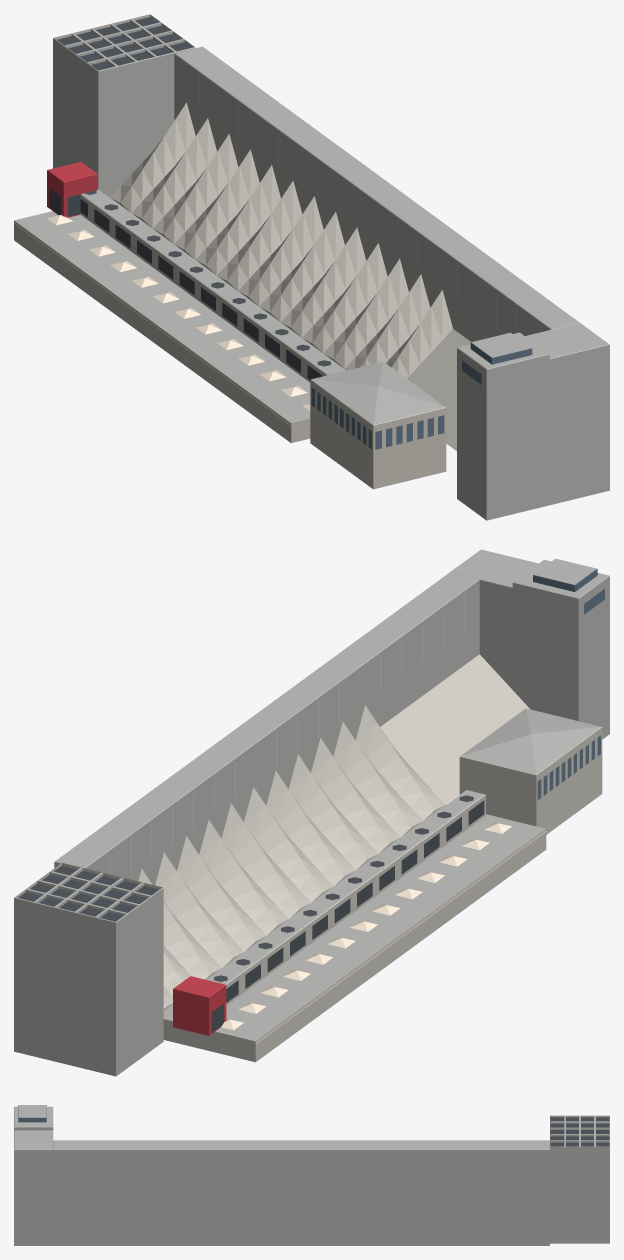
File: niagara-robert-moses-power-plant.glb
The picture shows the model from 3 angles, top to bottom: view 1: azimuth 30°, elevation 25°; view 2: azimuth 150°, elevation 25°; view 3: azimuth 270°, elevation 25°; orthographic projection. The views are drawn at different scales.
Parts seen in each view (by area): view 1: Robert Moses Niagara Power Plant; view 2: Robert Moses Niagara Power Plant; view 3: Robert Moses Niagara Power Plant.
Boxes of the visible parts, x1,y1,x2,y2 form: Robert Moses Niagara Power Plant: (14,14,609,520); Robert Moses Niagara Power Plant: (14,549,609,1076); Robert Moses Niagara Power Plant: (14,1105,609,1245).
Size of the model in its own units: 133 by 106 by 547.
